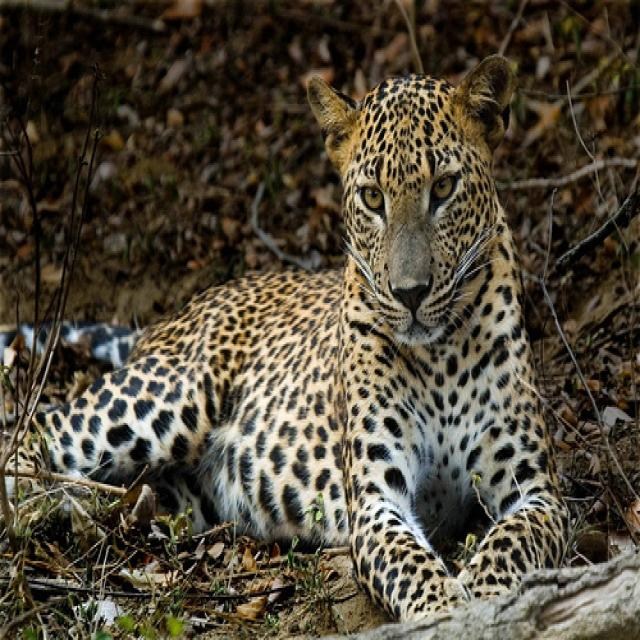Leopard: (0, 50, 562, 613)
